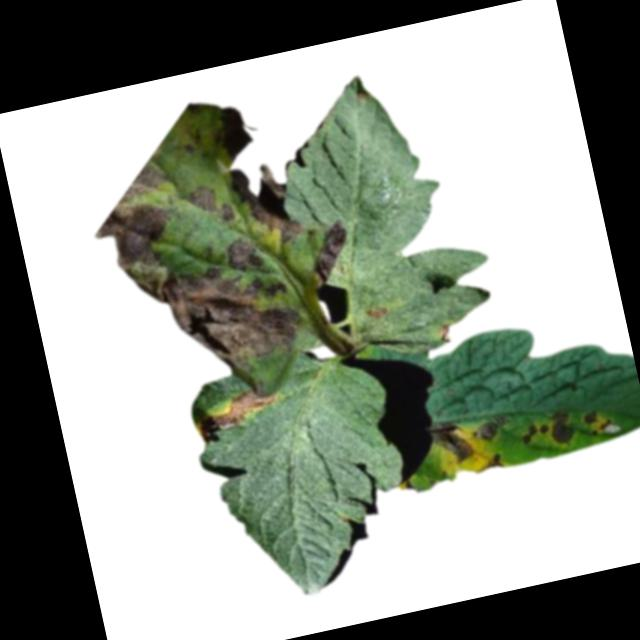Early_blight: (81, 141, 306, 400), (225, 151, 309, 250), (191, 383, 289, 449), (307, 218, 358, 287), (186, 178, 235, 232), (214, 102, 257, 163), (429, 415, 477, 466), (222, 230, 265, 273), (582, 404, 619, 443), (548, 409, 579, 448), (476, 414, 511, 443), (519, 422, 552, 446), (479, 452, 507, 477), (362, 301, 392, 322), (437, 319, 456, 347)
